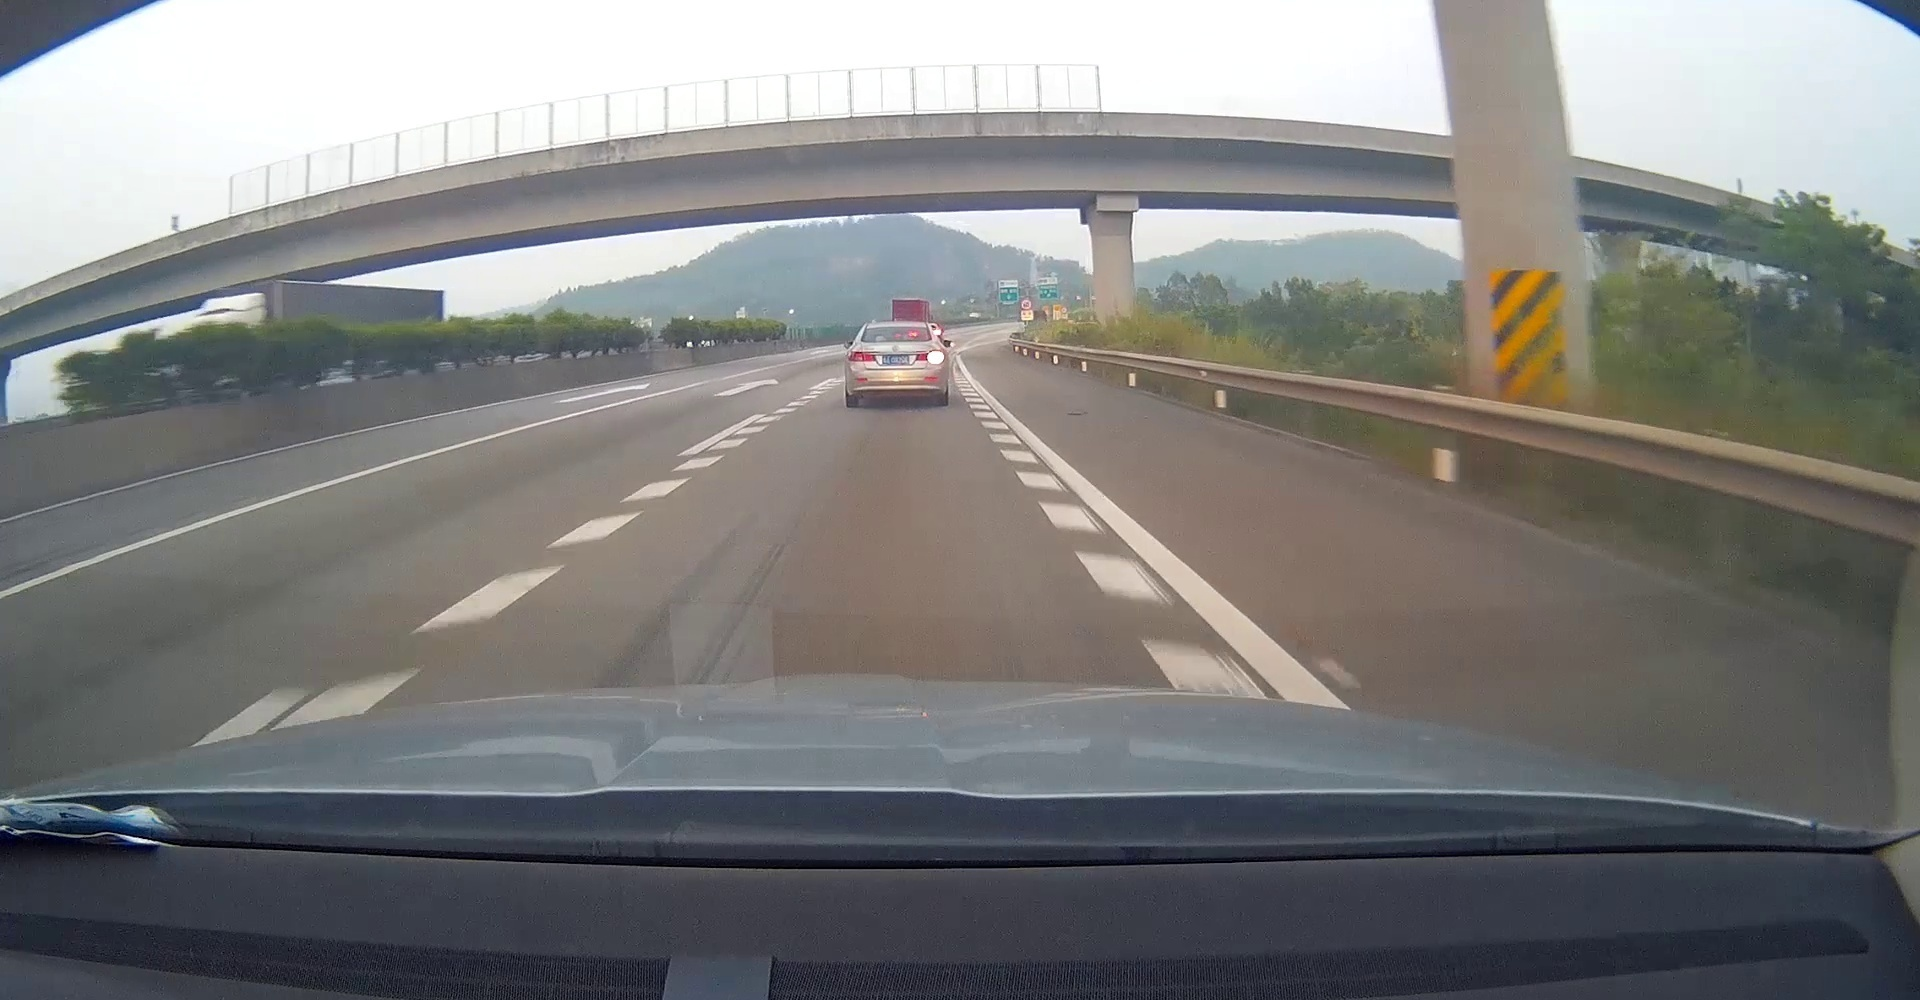L_light: (847, 350, 876, 362)
R_light: (916, 350, 945, 360)
T_light: (888, 339, 908, 341)
day-right: (844, 321, 949, 409)
